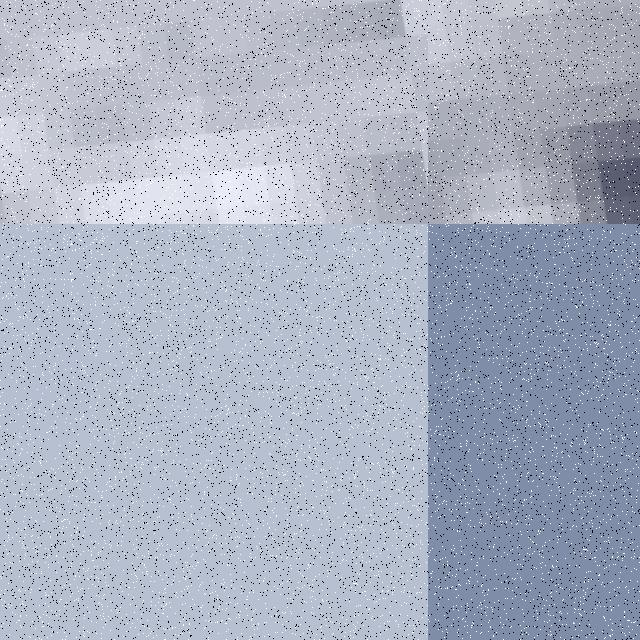drone: (0, 0, 428, 224), (428, 0, 640, 224)
